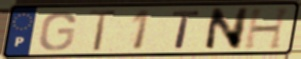1: (130, 8, 152, 53)
G: (37, 10, 78, 52)
H: (242, 6, 294, 51)
N: (202, 6, 251, 52)
T: (86, 8, 120, 53), (170, 10, 202, 50)
